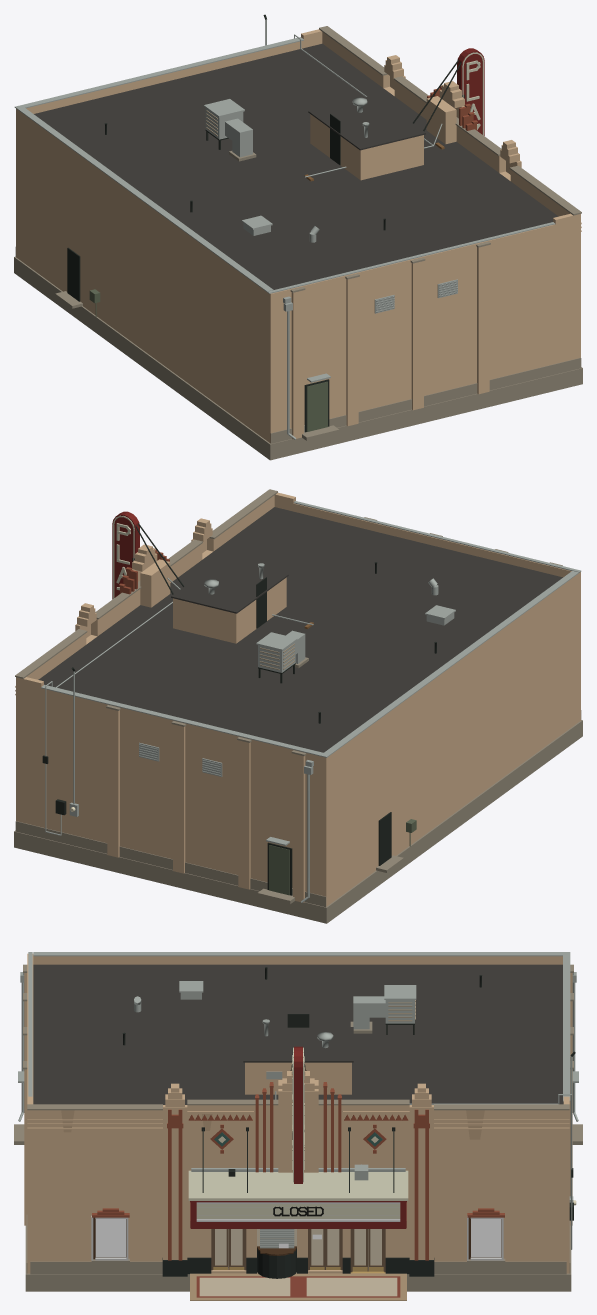
Rendered from SM_Town_Cinema_Shell_LOD1.fbx.
3 renders of one model, top to bottom at view 1: azimuth 30°, elevation 25°; view 2: azimuth 150°, elevation 25°; view 3: azimuth 270°, elevation 25°, orthographic. The views are drawn at different scales.
Visible parts, largest first — view 1: SM_Town_Cinema_Shell_LOD1; view 2: SM_Town_Cinema_Shell_LOD1; view 3: SM_Town_Cinema_Shell_LOD1.
Boxes of the visible parts, x1,y1,x2,y2 form: SM_Town_Cinema_Shell_LOD1: [14, 14, 582, 460]; SM_Town_Cinema_Shell_LOD1: [14, 489, 582, 923]; SM_Town_Cinema_Shell_LOD1: [14, 952, 582, 1300].
Size of the model in its own units: 17.15 by 21.22 by 10.36.
